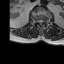CCS_normal: (40, 17, 41, 27)
LFS_stenosis: (43, 17, 46, 24)
LLS_stenosis: (41, 17, 43, 25)
RFS_normal: (35, 17, 37, 24)
RLS_normal: (37, 17, 40, 24)
